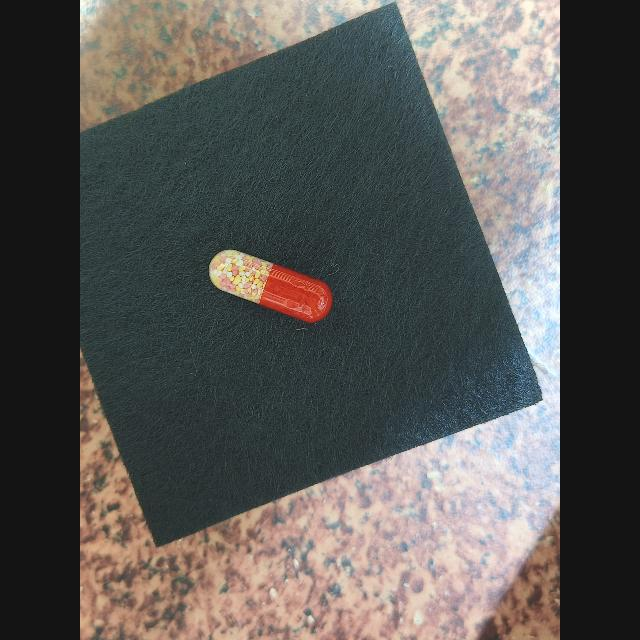Intact Capsule: (208, 250, 333, 323)
